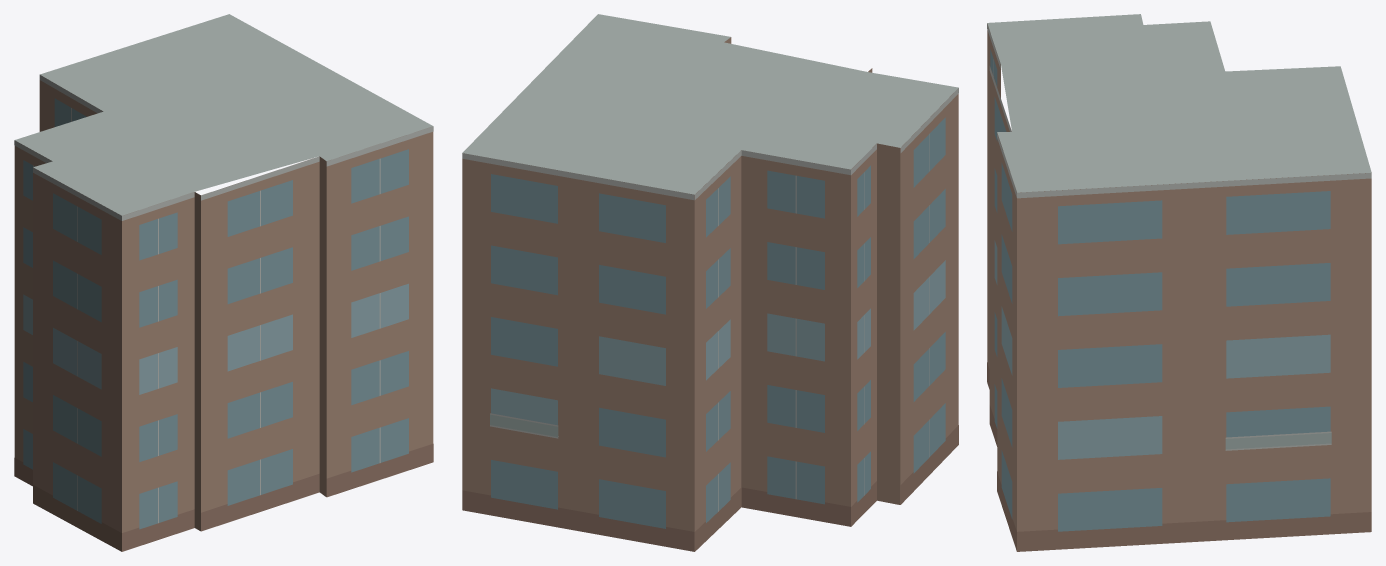
The model's file is survey-upis-32471981.glb.
The picture shows the model from 3 angles, left to right: view 1: azimuth 30°, elevation 25°; view 2: azimuth 150°, elevation 25°; view 3: azimuth 270°, elevation 25°; orthographic projection. The views are drawn at different scales.
Parts seen in each view (by area): view 1: survey-upis-32471981.tmp; view 2: survey-upis-32471981.tmp; view 3: survey-upis-32471981.tmp.
Part boxes in pixels (x1=…): survey-upis-32471981.tmp: x1=14, y1=14, x2=433, y2=551; survey-upis-32471981.tmp: x1=462, y1=14, x2=958, y2=551; survey-upis-32471981.tmp: x1=987, y1=14, x2=1371, y2=551.
Size of the model in its own units: 16.33 by 15.3 by 14.85.
